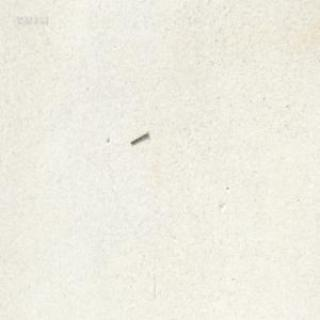Bolttrack_idkeyframe: (129, 129, 148, 144)
